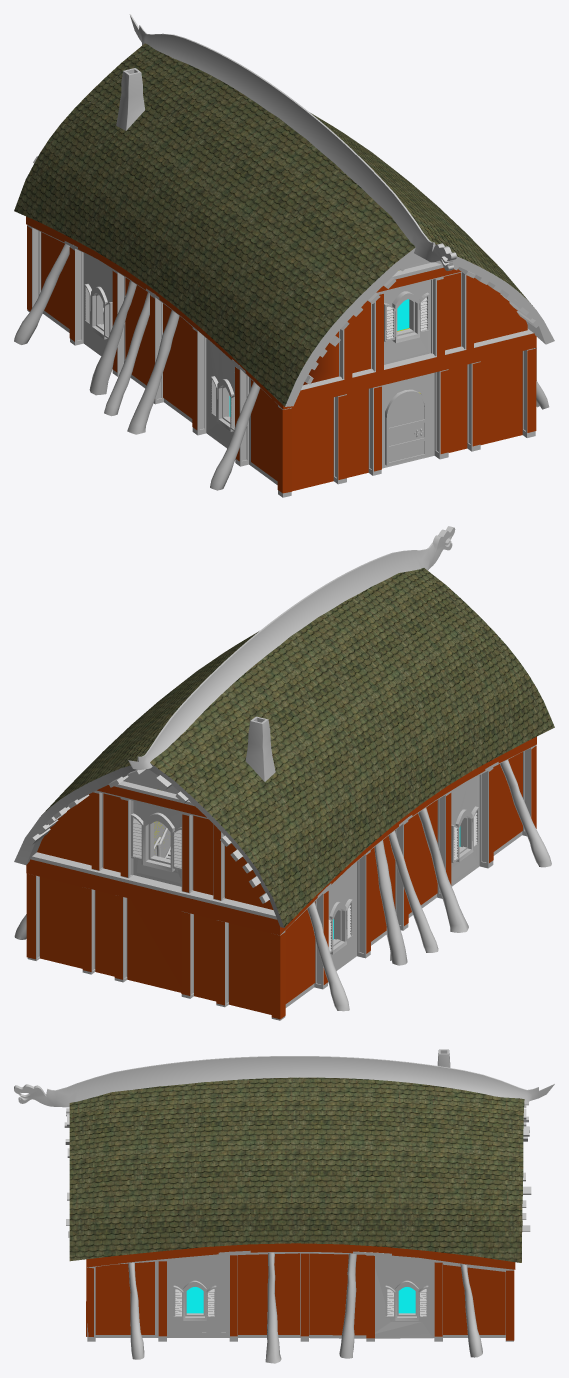
The model's file is port_viking_village.FBX.
3 views of the same model, one above another, from view 1: azimuth 30°, elevation 25°; view 2: azimuth 150°, elevation 25°; view 3: azimuth 270°, elevation 25° (orthographic). The views are drawn at different scales.
Visible parts, largest first — view 1: port_viking_village_exterior, port_viking_village_decowallext, port_viking_village_door; view 2: port_viking_village_exterior, port_viking_village_decowallext; view 3: port_viking_village_exterior, port_viking_village_decowallext, port_viking_village_decofloor.
Boxes of the visible parts, x1,y1,x2,y2 form: port_viking_village_exterior: [14, 14, 554, 497]; port_viking_village_decowallext: [26, 216, 536, 493]; port_viking_village_door: [385, 389, 427, 465]; port_viking_village_exterior: [14, 526, 554, 1020]; port_viking_village_decowallext: [26, 736, 536, 1019]; port_viking_village_exterior: [14, 1049, 554, 1363]; port_viking_village_decowallext: [86, 1243, 515, 1340]; port_viking_village_decofloor: [186, 1287, 415, 1313].
Size of what is drawn, in the model's own units: 1582 by 1286 by 2610.
